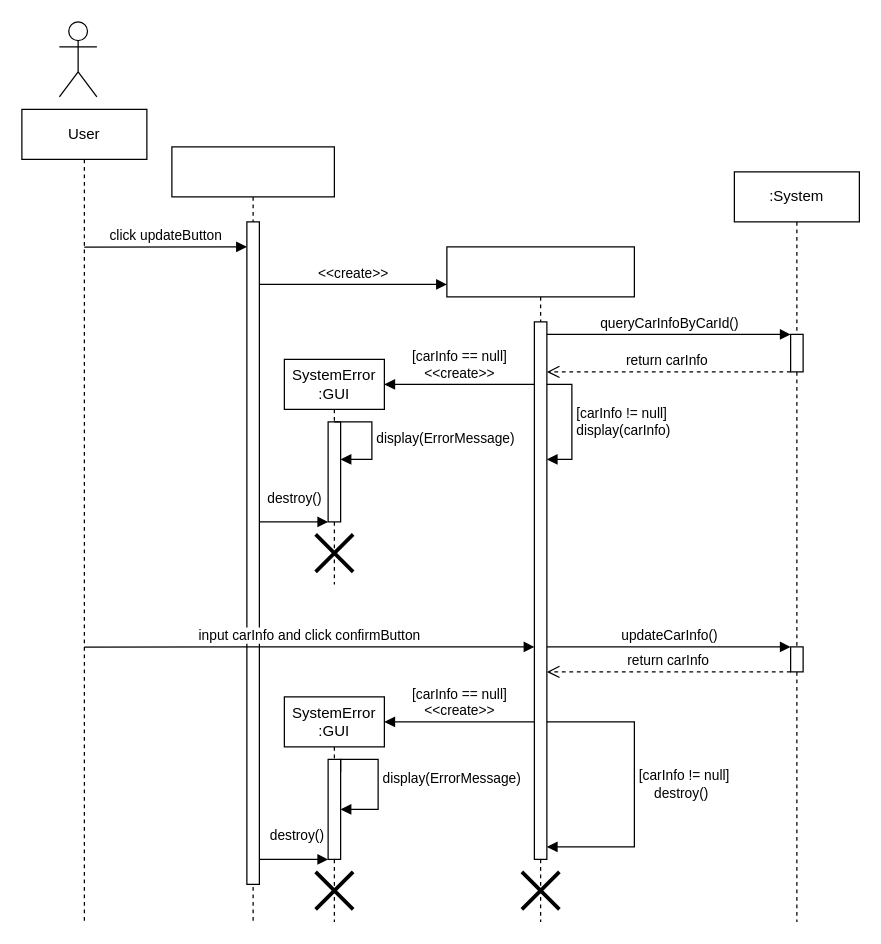
This 881x944 diagram has some shape labels left out. Each missing label, with the box of its shape:
CarInfoManagePage :GUI: (171, 146, 334, 922)
UpdateCarInfoDialog :GUI: (446, 246, 634, 922)
